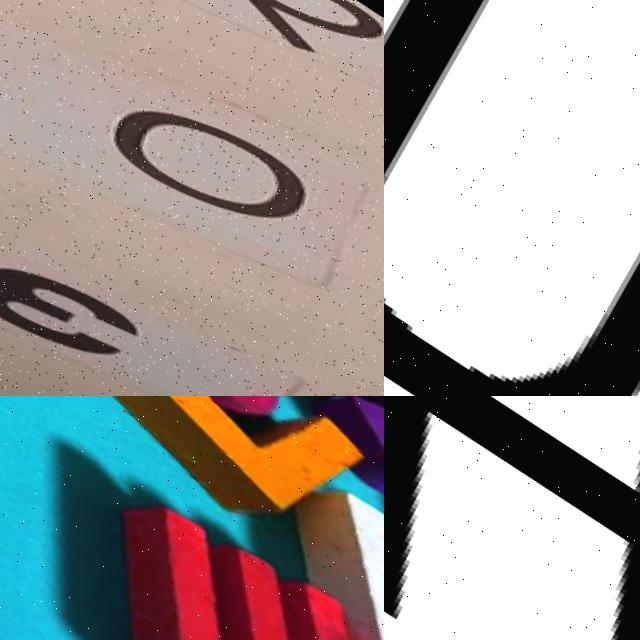0: (54, 29, 363, 295)
3: (0, 191, 189, 396)
9: (167, 0, 384, 120)
G: (245, 396, 384, 528)
H: (384, 396, 640, 640)
L: (63, 396, 384, 565)
U: (384, 0, 640, 396)
W: (0, 453, 384, 640)
